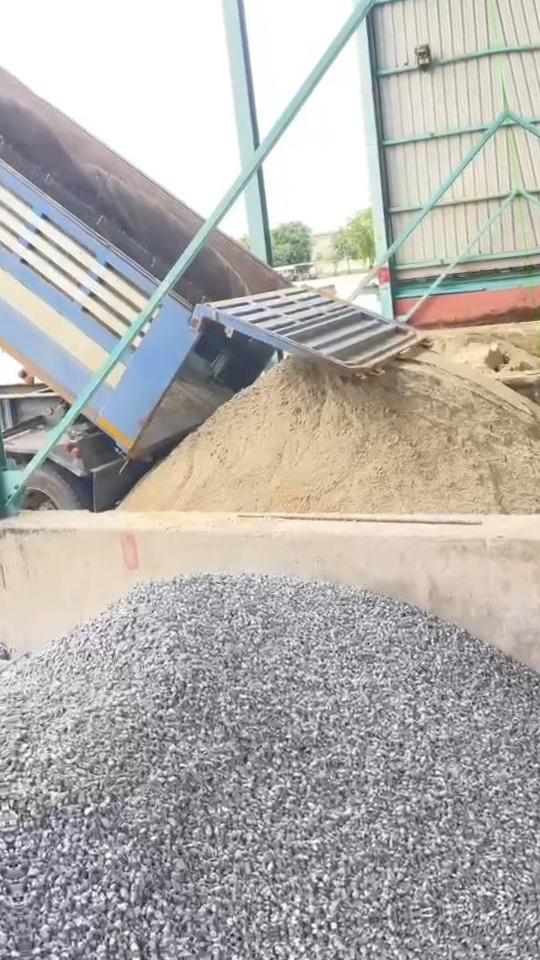gravel: (0, 576, 540, 960), (0, 639, 9, 670)
sand: (124, 353, 540, 513), (448, 343, 540, 374)
